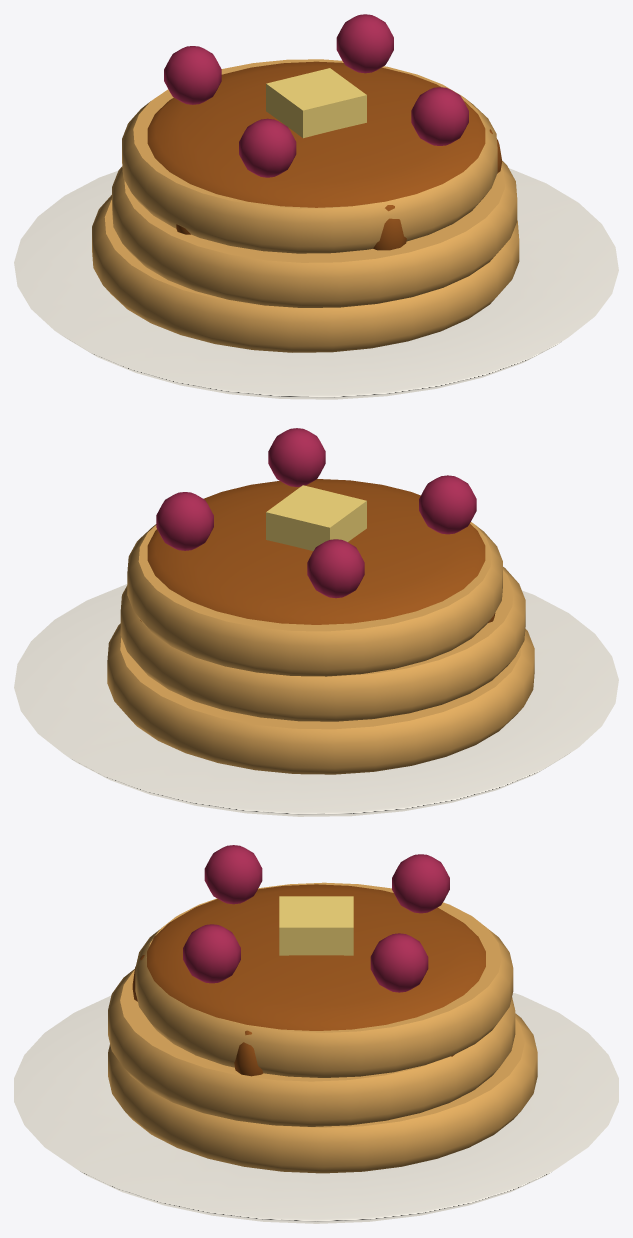
File: pancakes.glb
3 views of the same model, one above another, from view 1: azimuth 30°, elevation 25°; view 2: azimuth 150°, elevation 25°; view 3: azimuth 270°, elevation 25° (orthographic).
Visible parts, largest first — view 1: pancakes; view 2: pancakes; view 3: pancakes.
Part boxes in pixels (x1,y1,x2,y2): pancakes: (14,14,618,399); pancakes: (14,428,618,816); pancakes: (14,845,618,1223).
Bounding box in the file's own units: 0.164 × 0.0625 × 0.1633.
